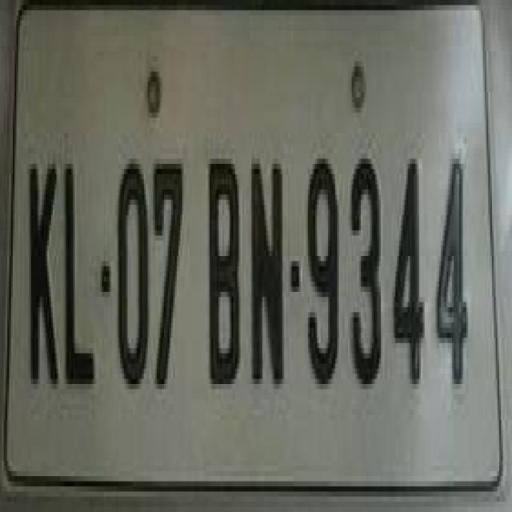number plate: (2, 0, 486, 497)
